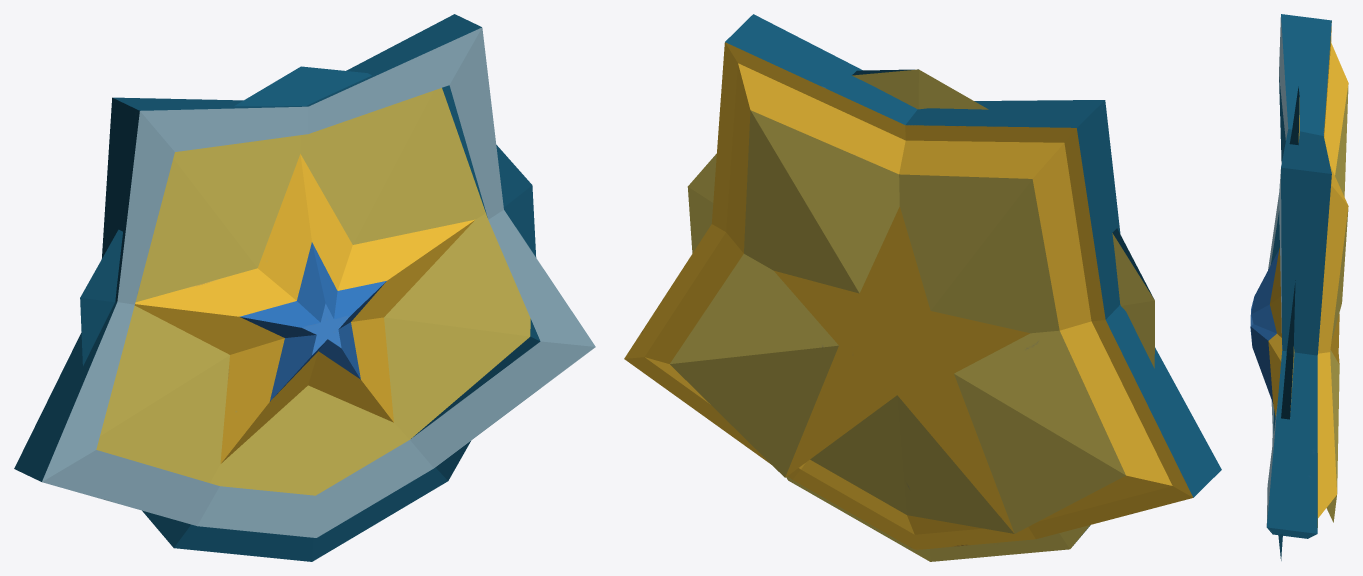
Rendered from Moeda.fbx.
3 renders of one model, left to right at view 1: azimuth 30°, elevation 25°; view 2: azimuth 150°, elevation 25°; view 3: azimuth 270°, elevation 25°, orthographic. The views are drawn at different scales.
Parts seen in each view (by area): view 1: Moeda; view 2: Moeda; view 3: Moeda.
Part boxes in pixels (x1=…): Moeda: x1=14, y1=14, x2=595, y2=561; Moeda: x1=624, y1=14, x2=1221, y2=561; Moeda: x1=1250, y1=14, x2=1348, y2=560.
Bounding box in the file's own units: 190 × 161 × 31.74.
